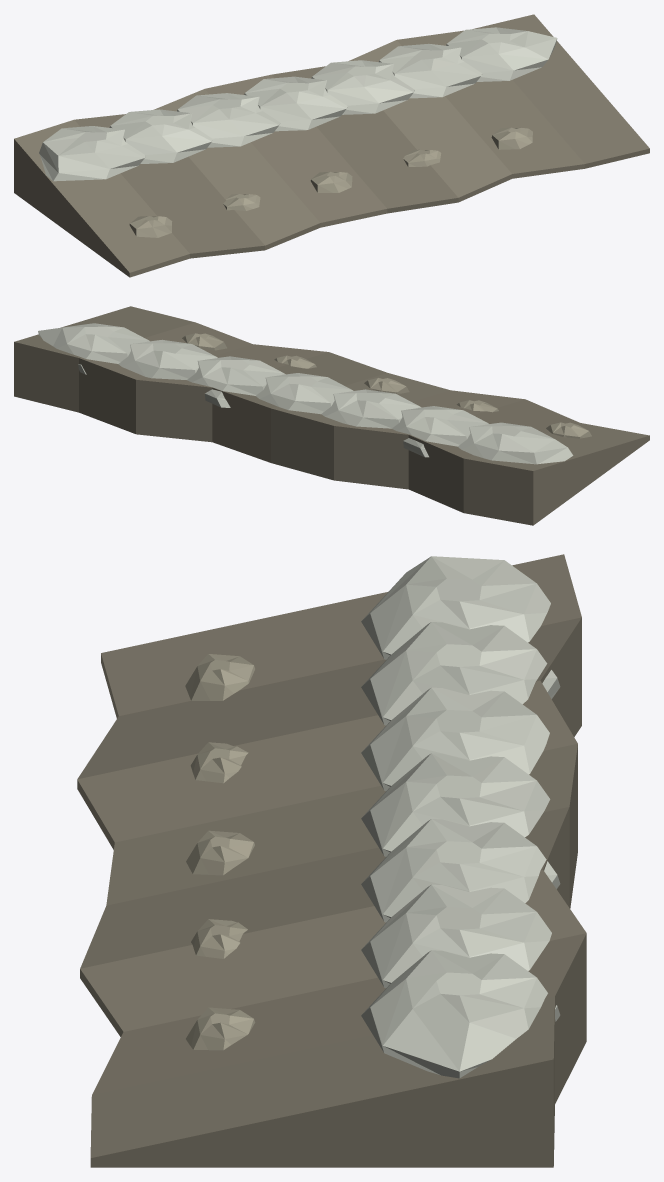
The model's file is snowmelt-bank.glb.
The picture shows the model from 3 angles, top to bottom: view 1: azimuth 30°, elevation 25°; view 2: azimuth 150°, elevation 25°; view 3: azimuth 270°, elevation 25°; orthographic projection. The views are drawn at different scales.
Visible parts, largest first — view 1: snowmelt-bank; view 2: snowmelt-bank; view 3: snowmelt-bank.
Boxes of the visible parts, box(x1,y1,x2,y2) form: snowmelt-bank: box(14, 14, 649, 277); snowmelt-bank: box(14, 306, 649, 525); snowmelt-bank: box(77, 554, 586, 1167).
Size of the model in its own units: 4 by 0.4681 by 1.7.
